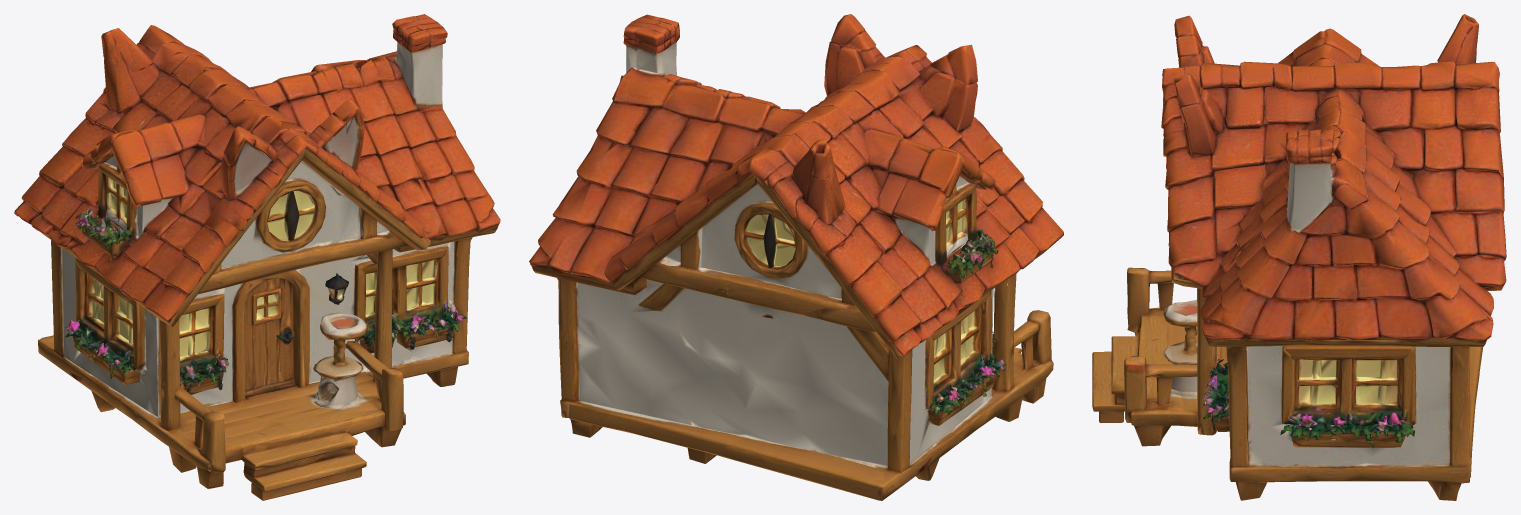
Rendered from cottage.glb.
3 views of the same model, side by side, from view 1: azimuth 30°, elevation 25°; view 2: azimuth 150°, elevation 25°; view 3: azimuth 270°, elevation 25° (orthographic). The views are drawn at different scales.
Bounding box in the file's own units: 5.77 × 5.2 × 5.3.
Materials: 1 (1 with a texture image).
